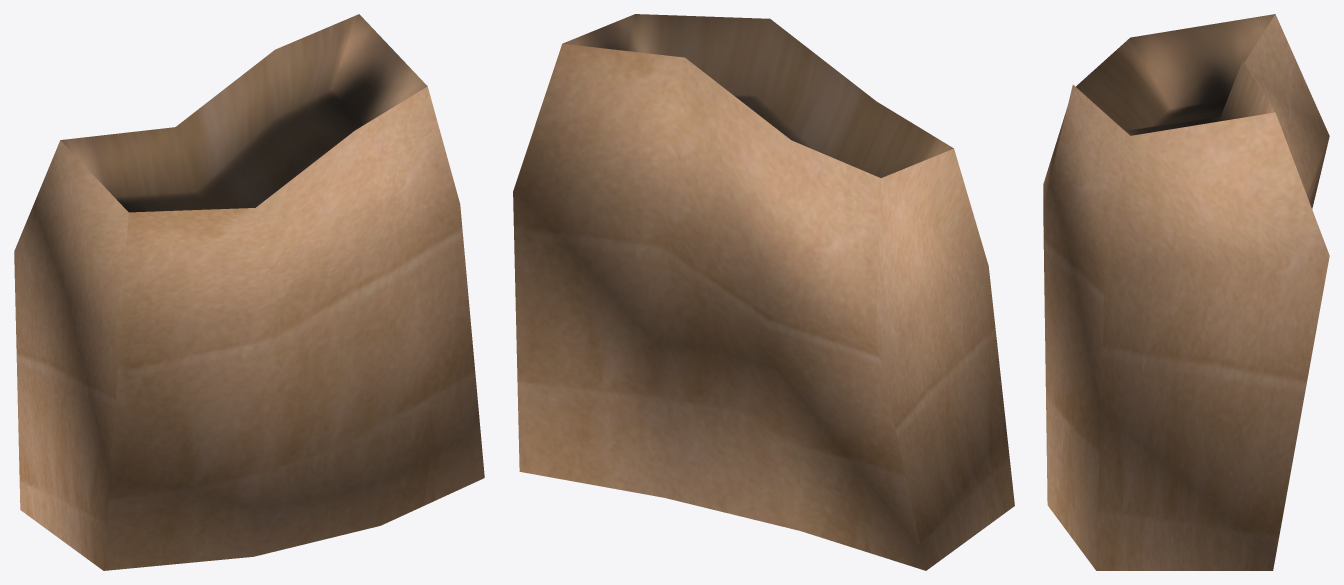
Rendered from M_bag_eaten.fbx.
3 renders of one model, left to right at view 1: azimuth 30°, elevation 25°; view 2: azimuth 150°, elevation 25°; view 3: azimuth 270°, elevation 25°, orthographic. The views are drawn at different scales.
Parts seen in each view (by area): view 1: Paper_Bag_2.001; view 2: Paper_Bag_2.001; view 3: Paper_Bag_2.001.
Part boxes in pixels (<box>): Paper_Bag_2.001: <box>14,14,484,570</box>; Paper_Bag_2.001: <box>513,14,1014,570</box>; Paper_Bag_2.001: <box>1043,14,1329,570</box>.
Bounding box in the file's own units: 50.36 × 52.04 × 30.9.
